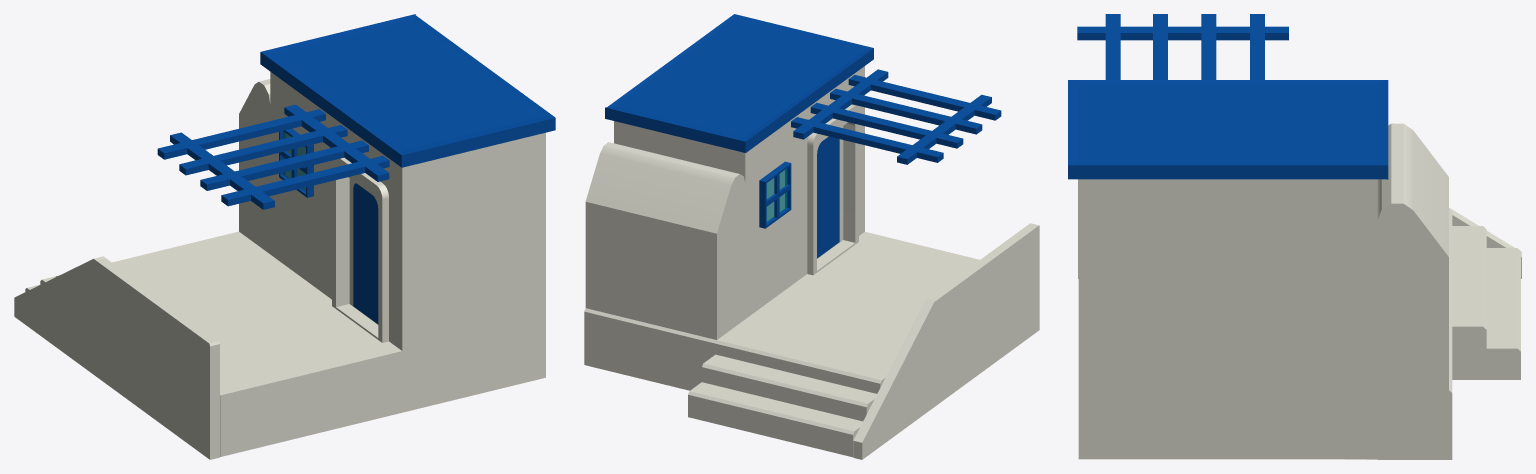
File: fillerBuilding_04.fbx
3 views of the same model, side by side, from view 1: azimuth 30°, elevation 25°; view 2: azimuth 150°, elevation 25°; view 3: azimuth 270°, elevation 25° (orthographic). The views are drawn at different scales.
Parts seen in each view (by area): view 1: pCube82; view 2: pCube82; view 3: pCube82.
Part boxes in pixels (x1,y1,x2,y2): pCube82: (14, 14, 555, 459); pCube82: (584, 14, 1039, 459); pCube82: (1068, 14, 1521, 459).
Bounding box in the file's own units: 4.9 × 3.58 × 4.97.
